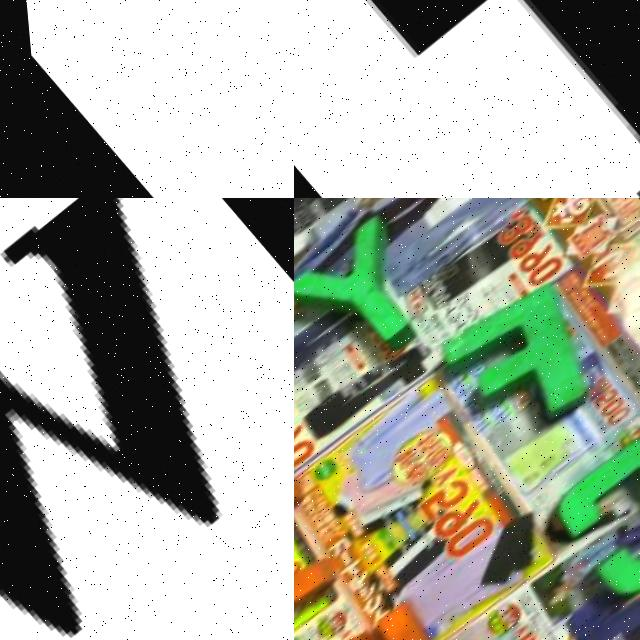C: (532, 409, 640, 600)
F: (420, 260, 623, 456)
I: (294, 454, 356, 640)
T: (294, 0, 640, 198)
W: (0, 198, 294, 640), (294, 588, 475, 640)
Y: (294, 198, 460, 383)
